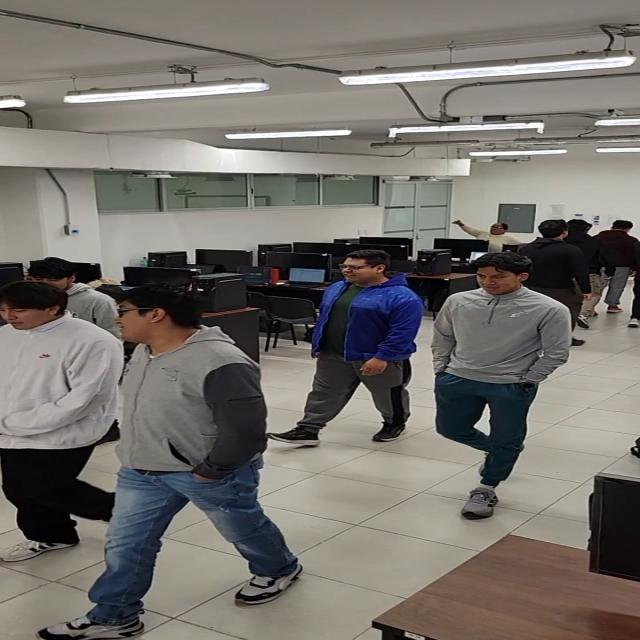Persona: (116, 276, 300, 640), (429, 250, 560, 523), (0, 279, 114, 563), (294, 238, 412, 442), (591, 217, 640, 318)
